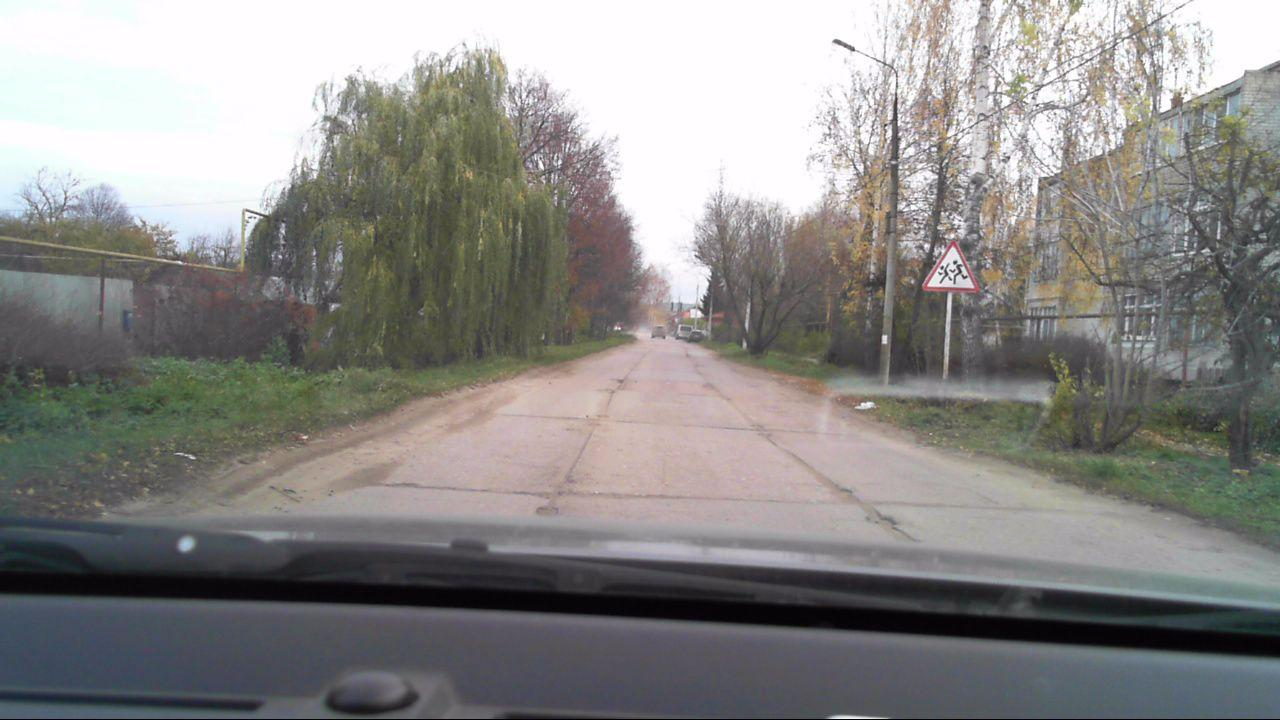1_23: (919, 241, 980, 293)
